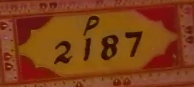P2187: (3, 2, 192, 85)
